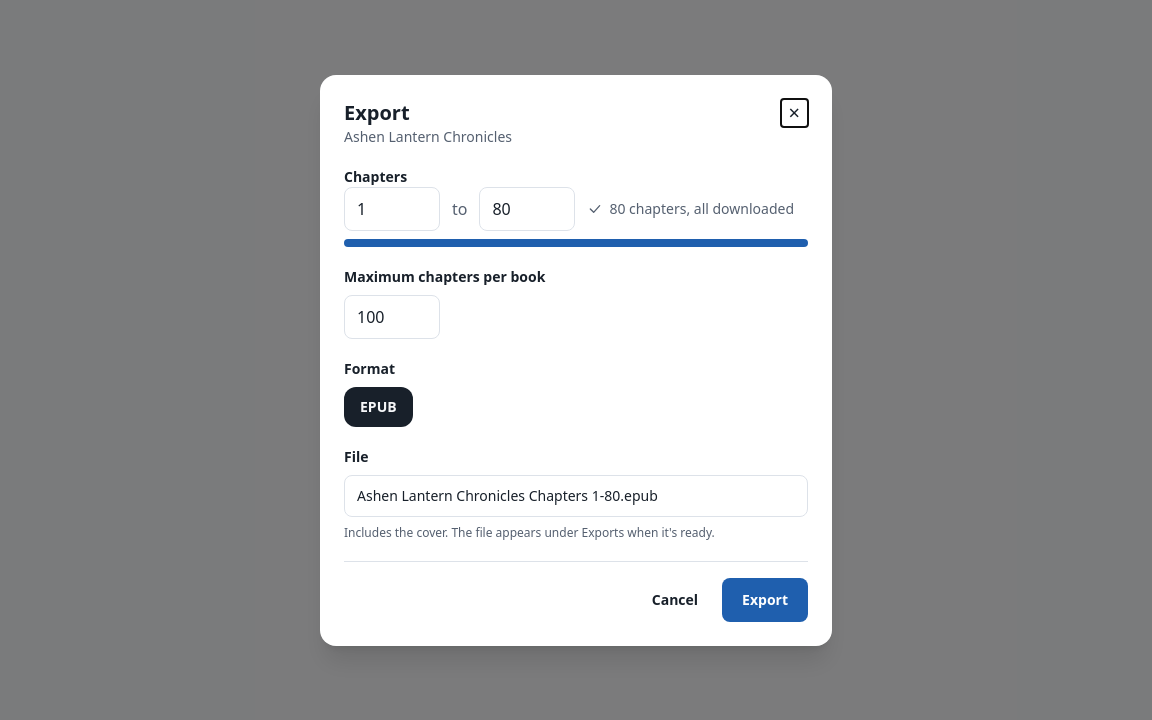
ExportDialog › when all chapters are downloaded › closes with the Export queued toast and reports the submit
Click the button "Export" at (765, 600), box [722,578,808,622]
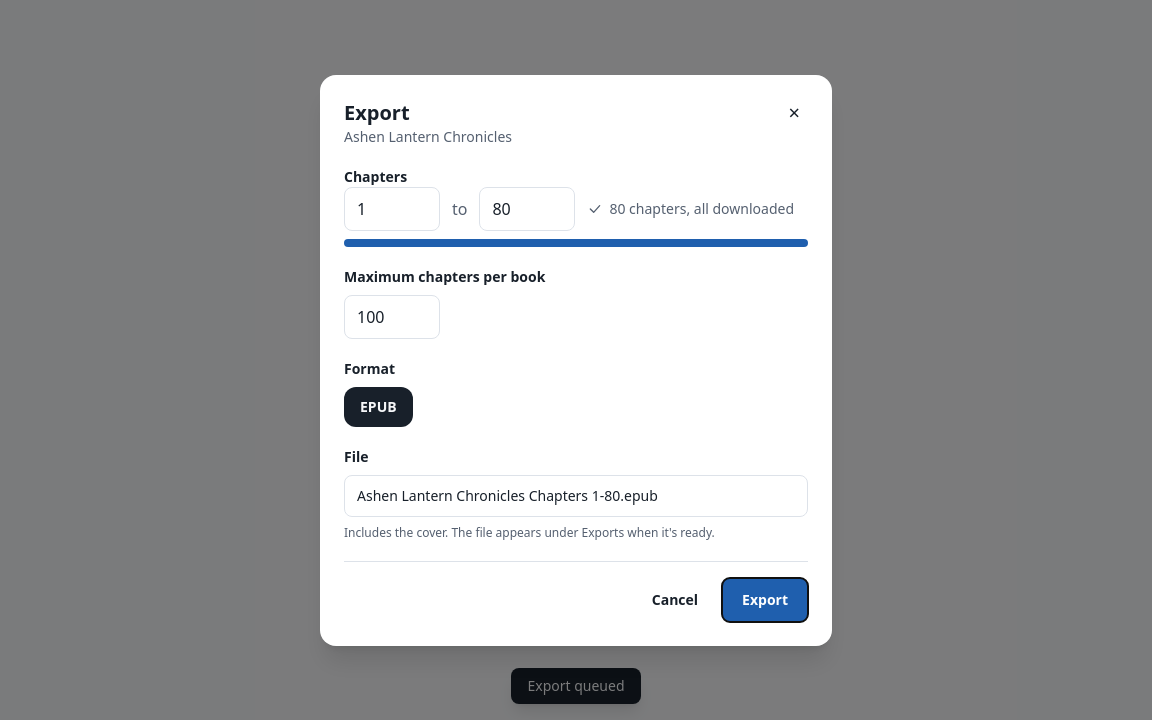
Check: the text "Export queued" is shown, box [512,668,641,704]
